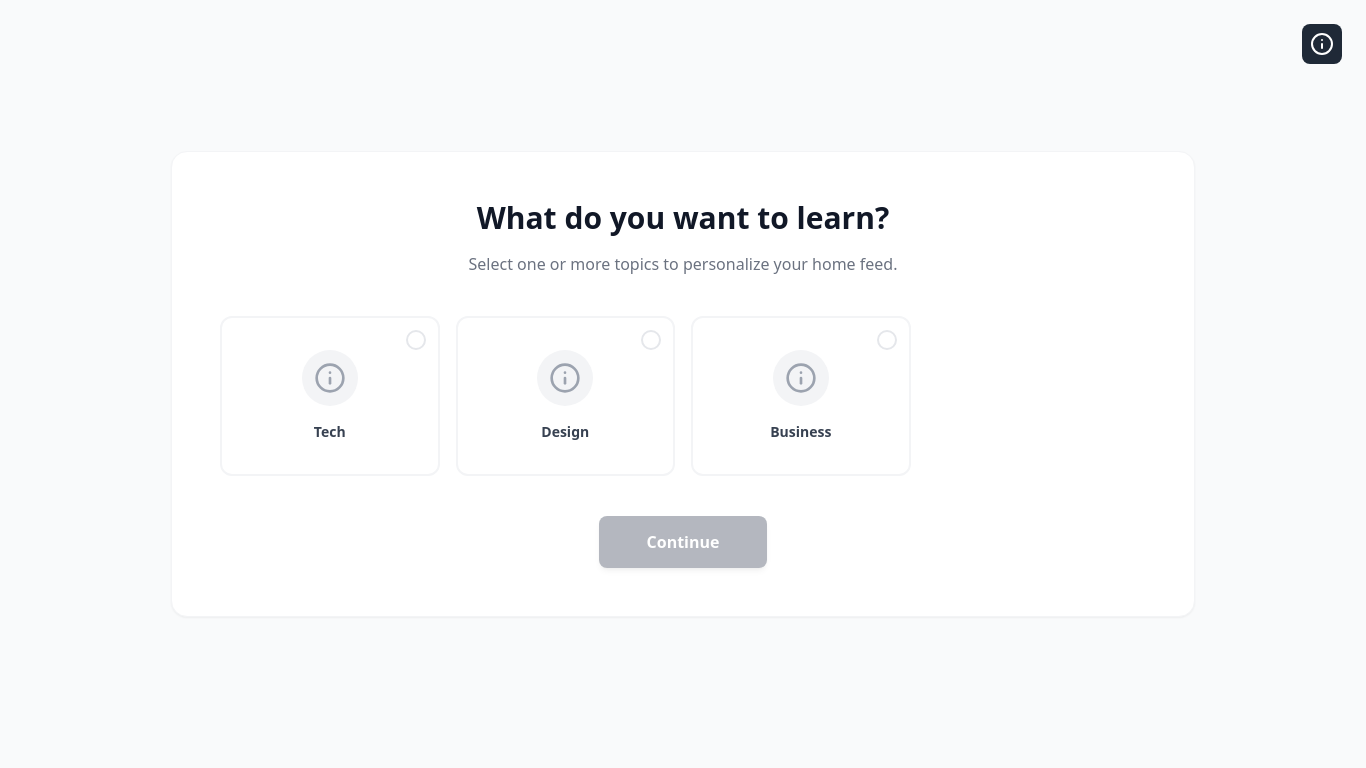
Scenario: OnboardingPage › closes info modal when close button is clicked
The width and height of the screenshot is (1366, 768).
Open modal
Step 1. Click the button named "Show information" → point(1322, 44), box 1302,24 -> 1342,64
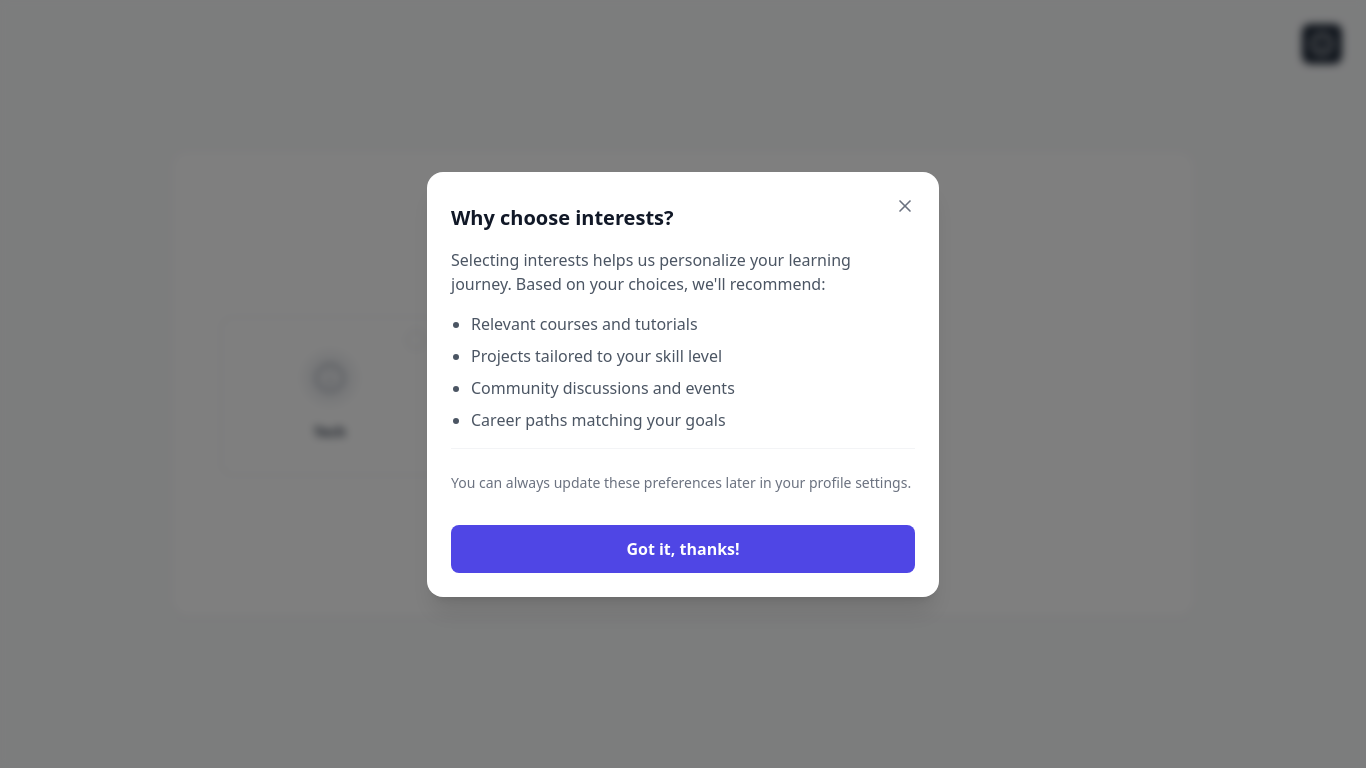
Expected: the dialog is shown
Close modal
Step 2. Click the button named "Close modal" → point(905, 206), box 887,188 -> 923,224
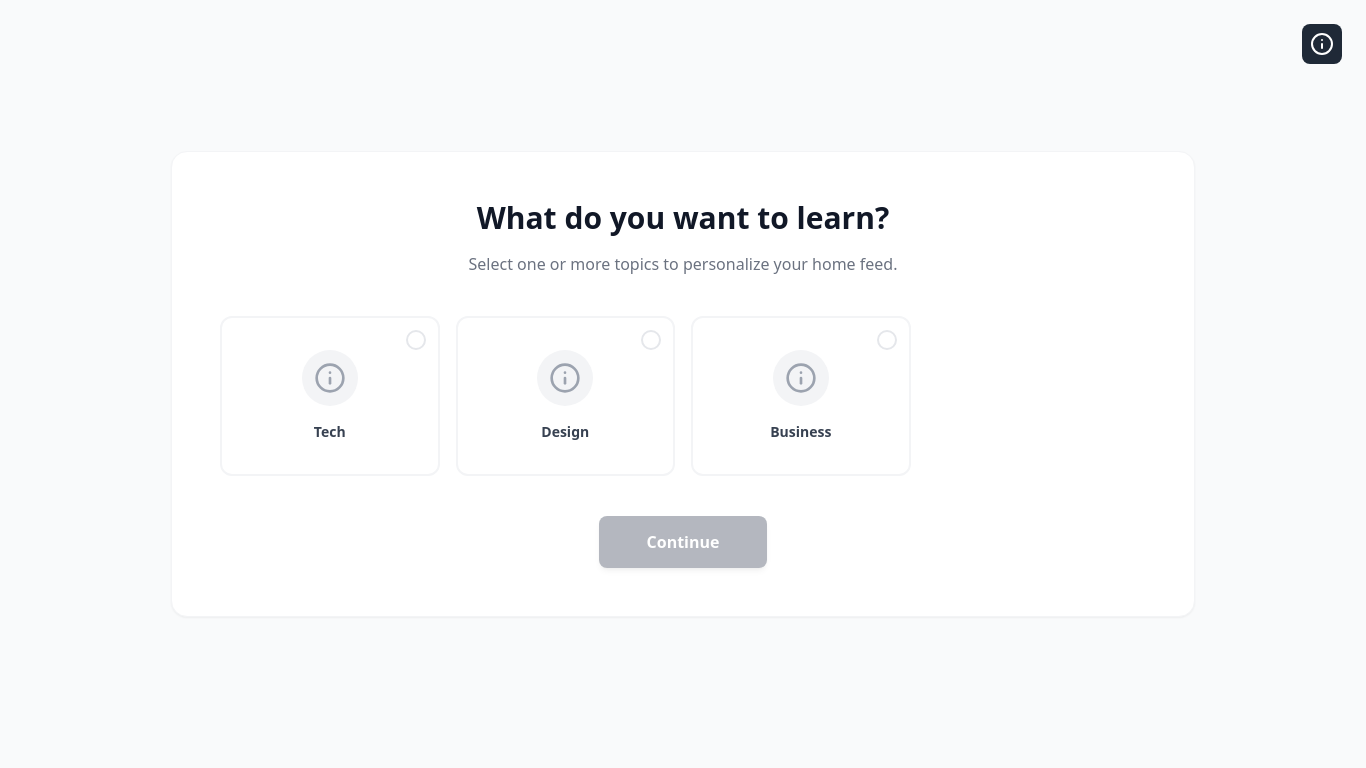
Expected: the dialog is gone
